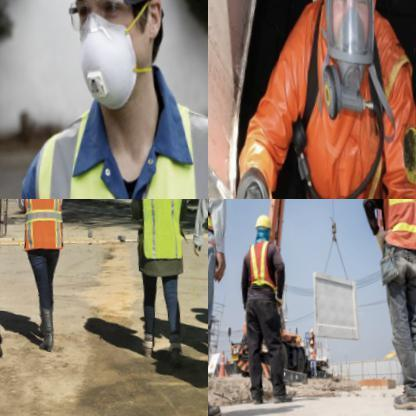vest: (256, 0, 415, 198), (22, 80, 207, 198), (135, 199, 194, 260), (15, 199, 76, 254), (372, 199, 415, 257), (246, 234, 283, 296)
